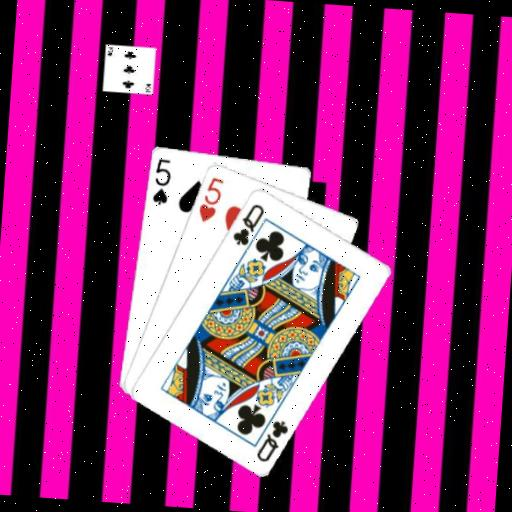5H: (194, 172, 226, 224)
5S: (148, 154, 173, 206)
QC: (252, 415, 290, 465), (229, 199, 266, 249)
